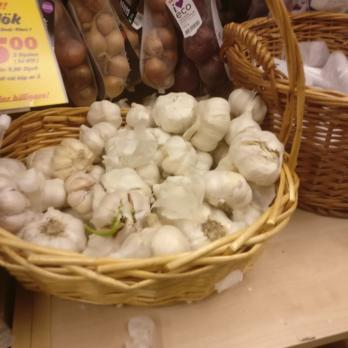Garlic: (86, 94, 270, 239), (0, 143, 88, 251)
